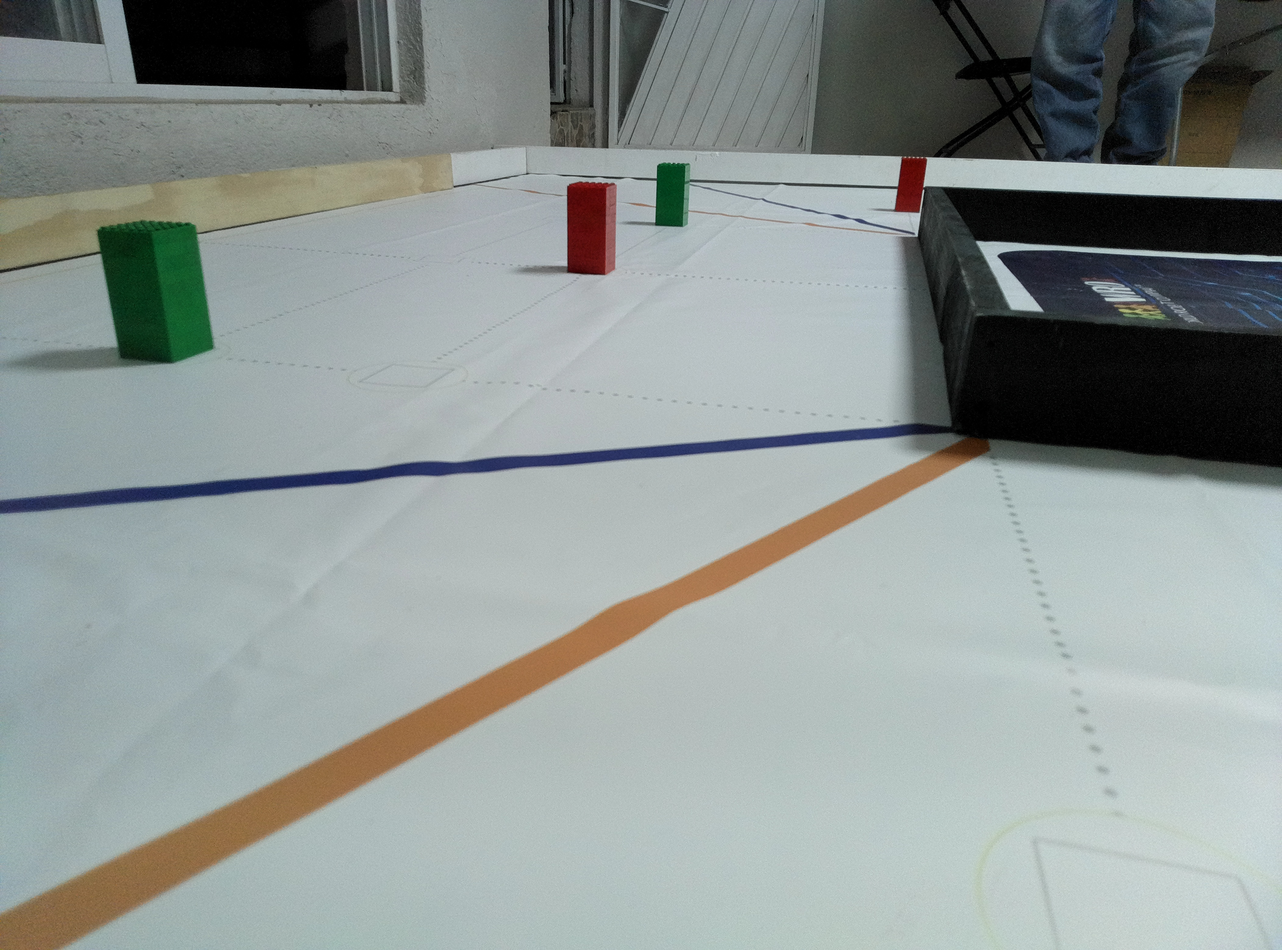greenbox: (95, 217, 217, 365), (655, 162, 692, 228)
redbox: (565, 179, 618, 276), (893, 155, 928, 214)
